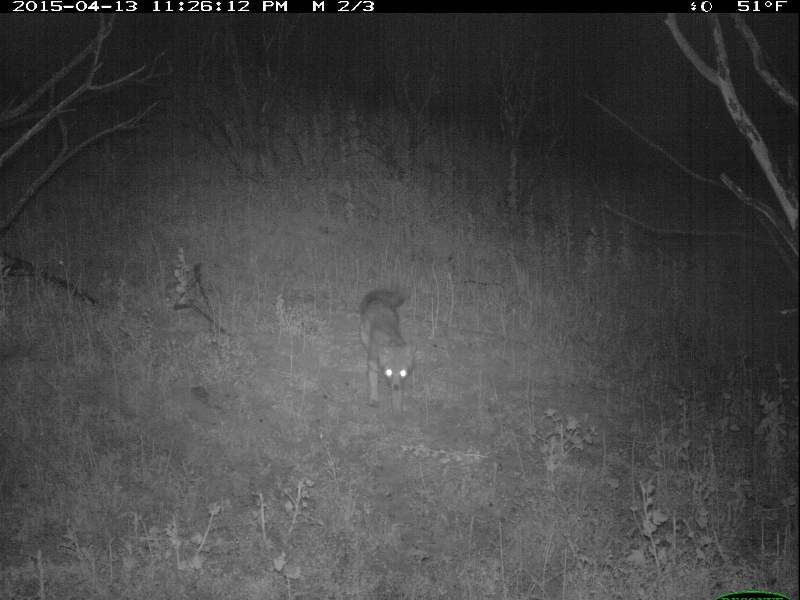fox: (354, 283, 421, 415)
